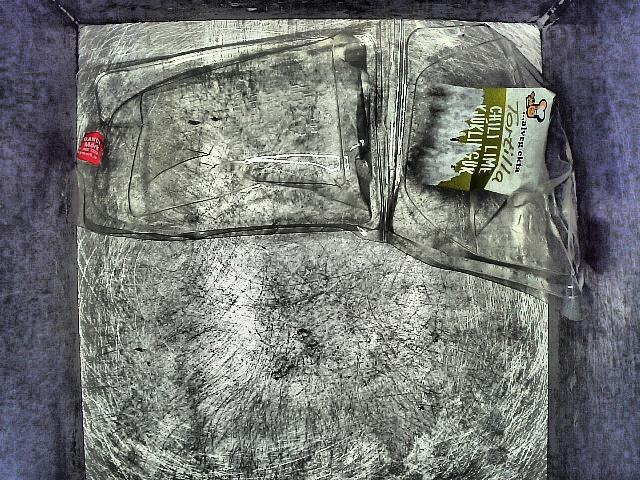Plastic: (24, 10, 593, 323)
